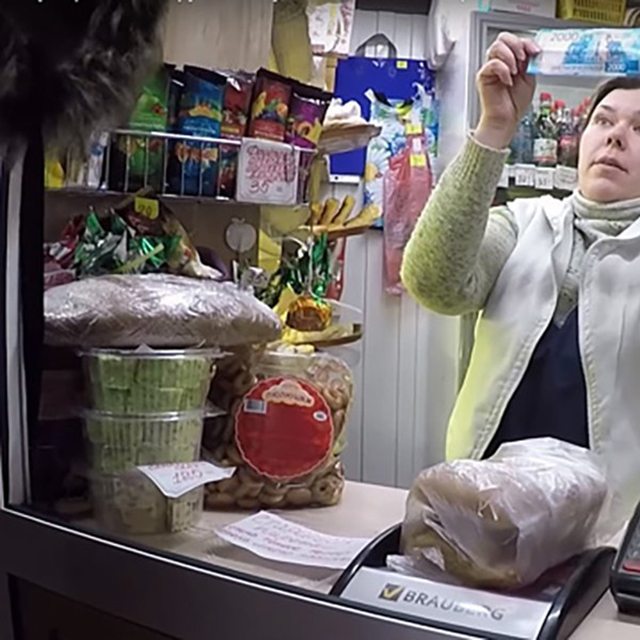banknotes: (529, 28, 640, 75)
